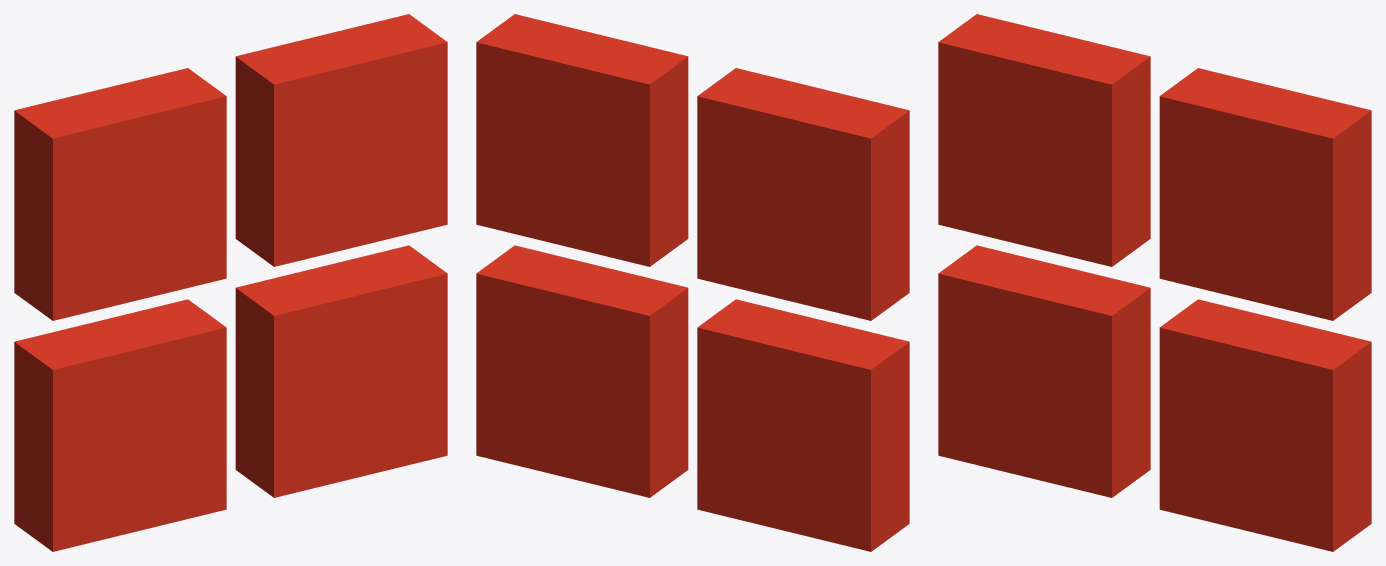
The model's file is Icon_Menu_01.fbx.
3 renders of one model, left to right at view 1: azimuth 30°, elevation 25°; view 2: azimuth 150°, elevation 25°; view 3: azimuth 330°, elevation 25°, orthographic.
Parts seen in each view (by area): view 1: Icon_Menu_01; view 2: Icon_Menu_01; view 3: Icon_Menu_01.
Part boxes in pixels (left/top/right/bottom): Icon_Menu_01: left=14, top=14, right=447, bottom=551; Icon_Menu_01: left=476, top=14, right=909, bottom=551; Icon_Menu_01: left=938, top=14, right=1371, bottom=551.
Size of the model in its own units: 71.18 by 71.18 by 12.06.
